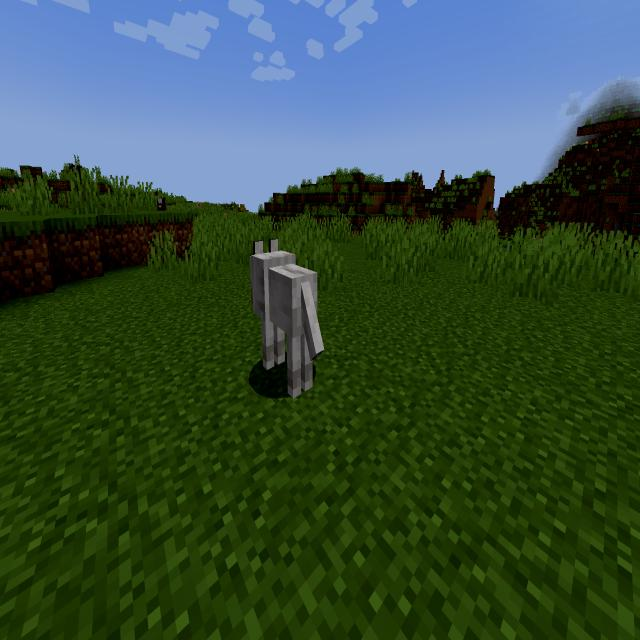Wolf: (243, 225, 333, 412)
